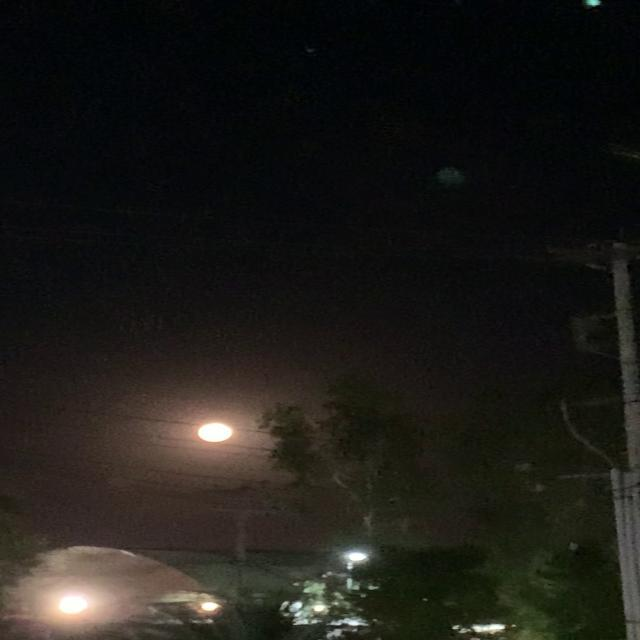moon: (191, 420, 233, 444)
